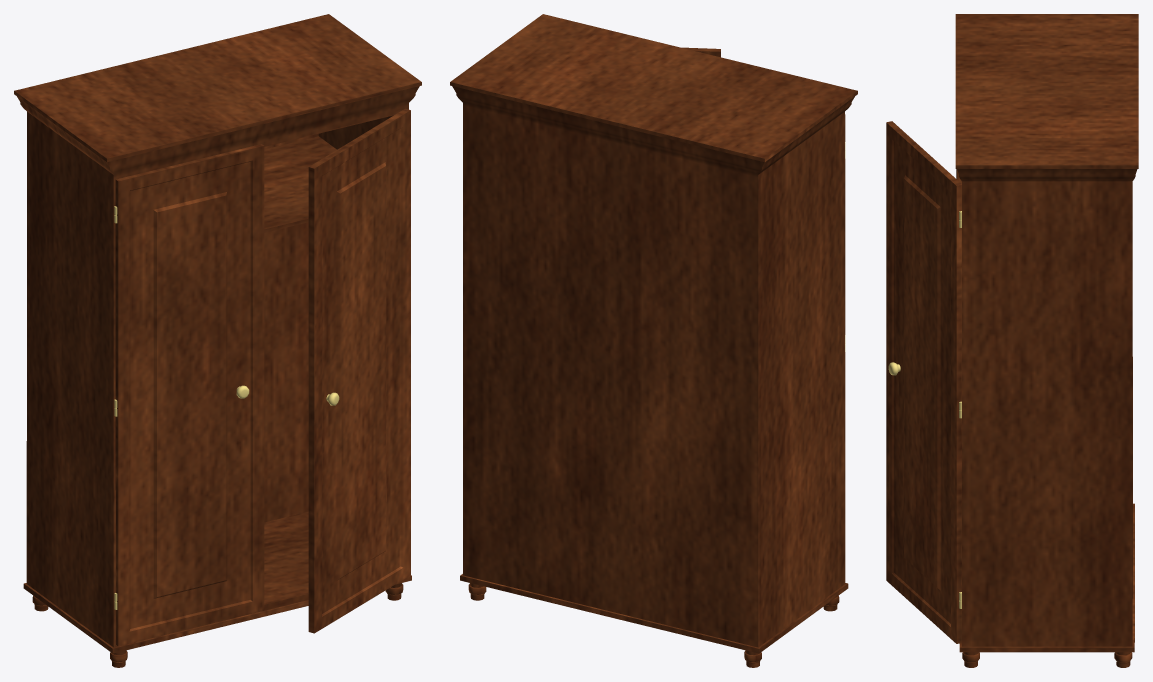
Rendered from Closet.fbx.
3 views of the same model, side by side, from view 1: azimuth 30°, elevation 25°; view 2: azimuth 150°, elevation 25°; view 3: azimuth 270°, elevation 25° (orthographic).
Visible parts, largest first — view 1: Closet; view 2: Closet; view 3: Closet.
Boxes of the visible parts, left/top/right/bottom form: Closet: left=14, top=14, right=421, bottom=667; Closet: left=450, top=14, right=857, bottom=667; Closet: left=886, top=14, right=1138, bottom=667.
Size of the model in its own units: 302 by 473 by 213.
